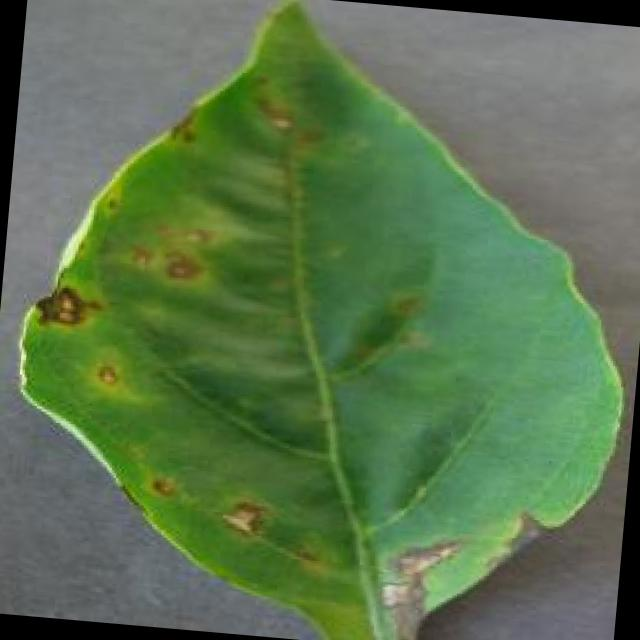Chilli_Bacterial_Spot: (0, 0, 640, 640), (21, 205, 226, 406), (118, 214, 224, 290), (30, 280, 90, 332), (213, 494, 270, 542), (248, 89, 300, 140), (154, 246, 206, 287), (285, 538, 333, 580), (141, 471, 181, 504), (88, 355, 123, 390), (122, 238, 156, 272)
